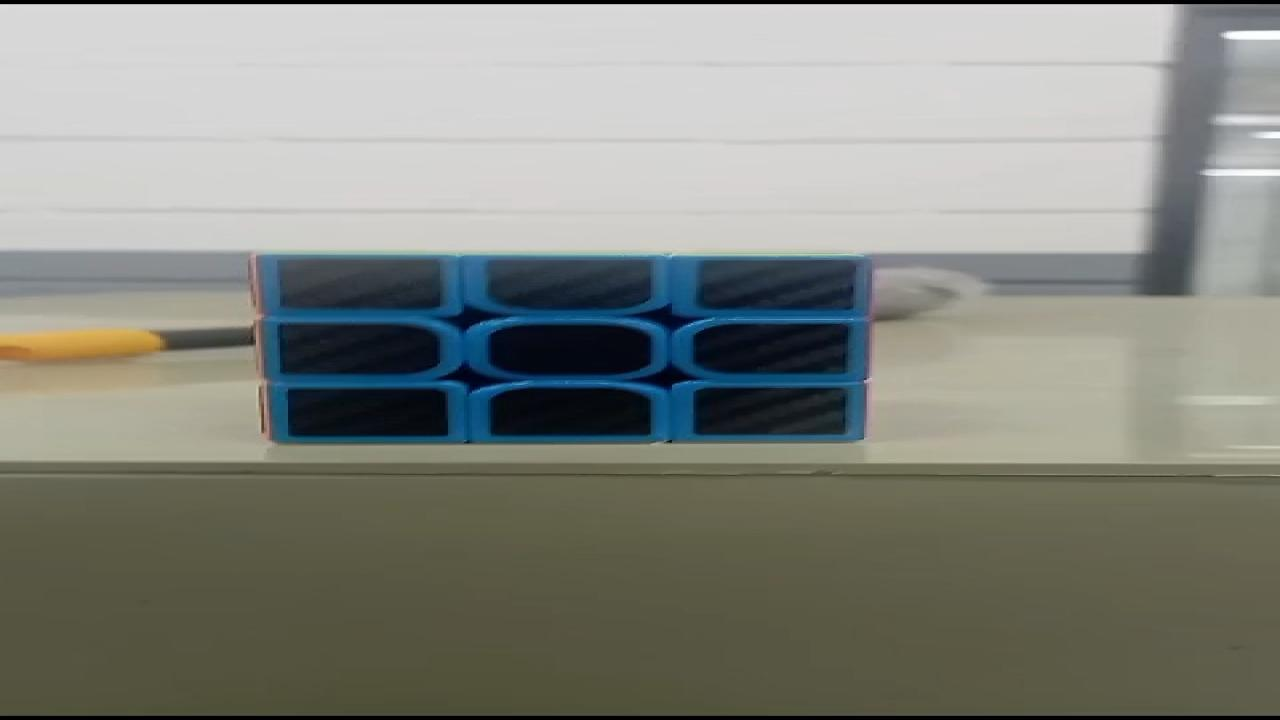Cube: (245, 251, 878, 445)
